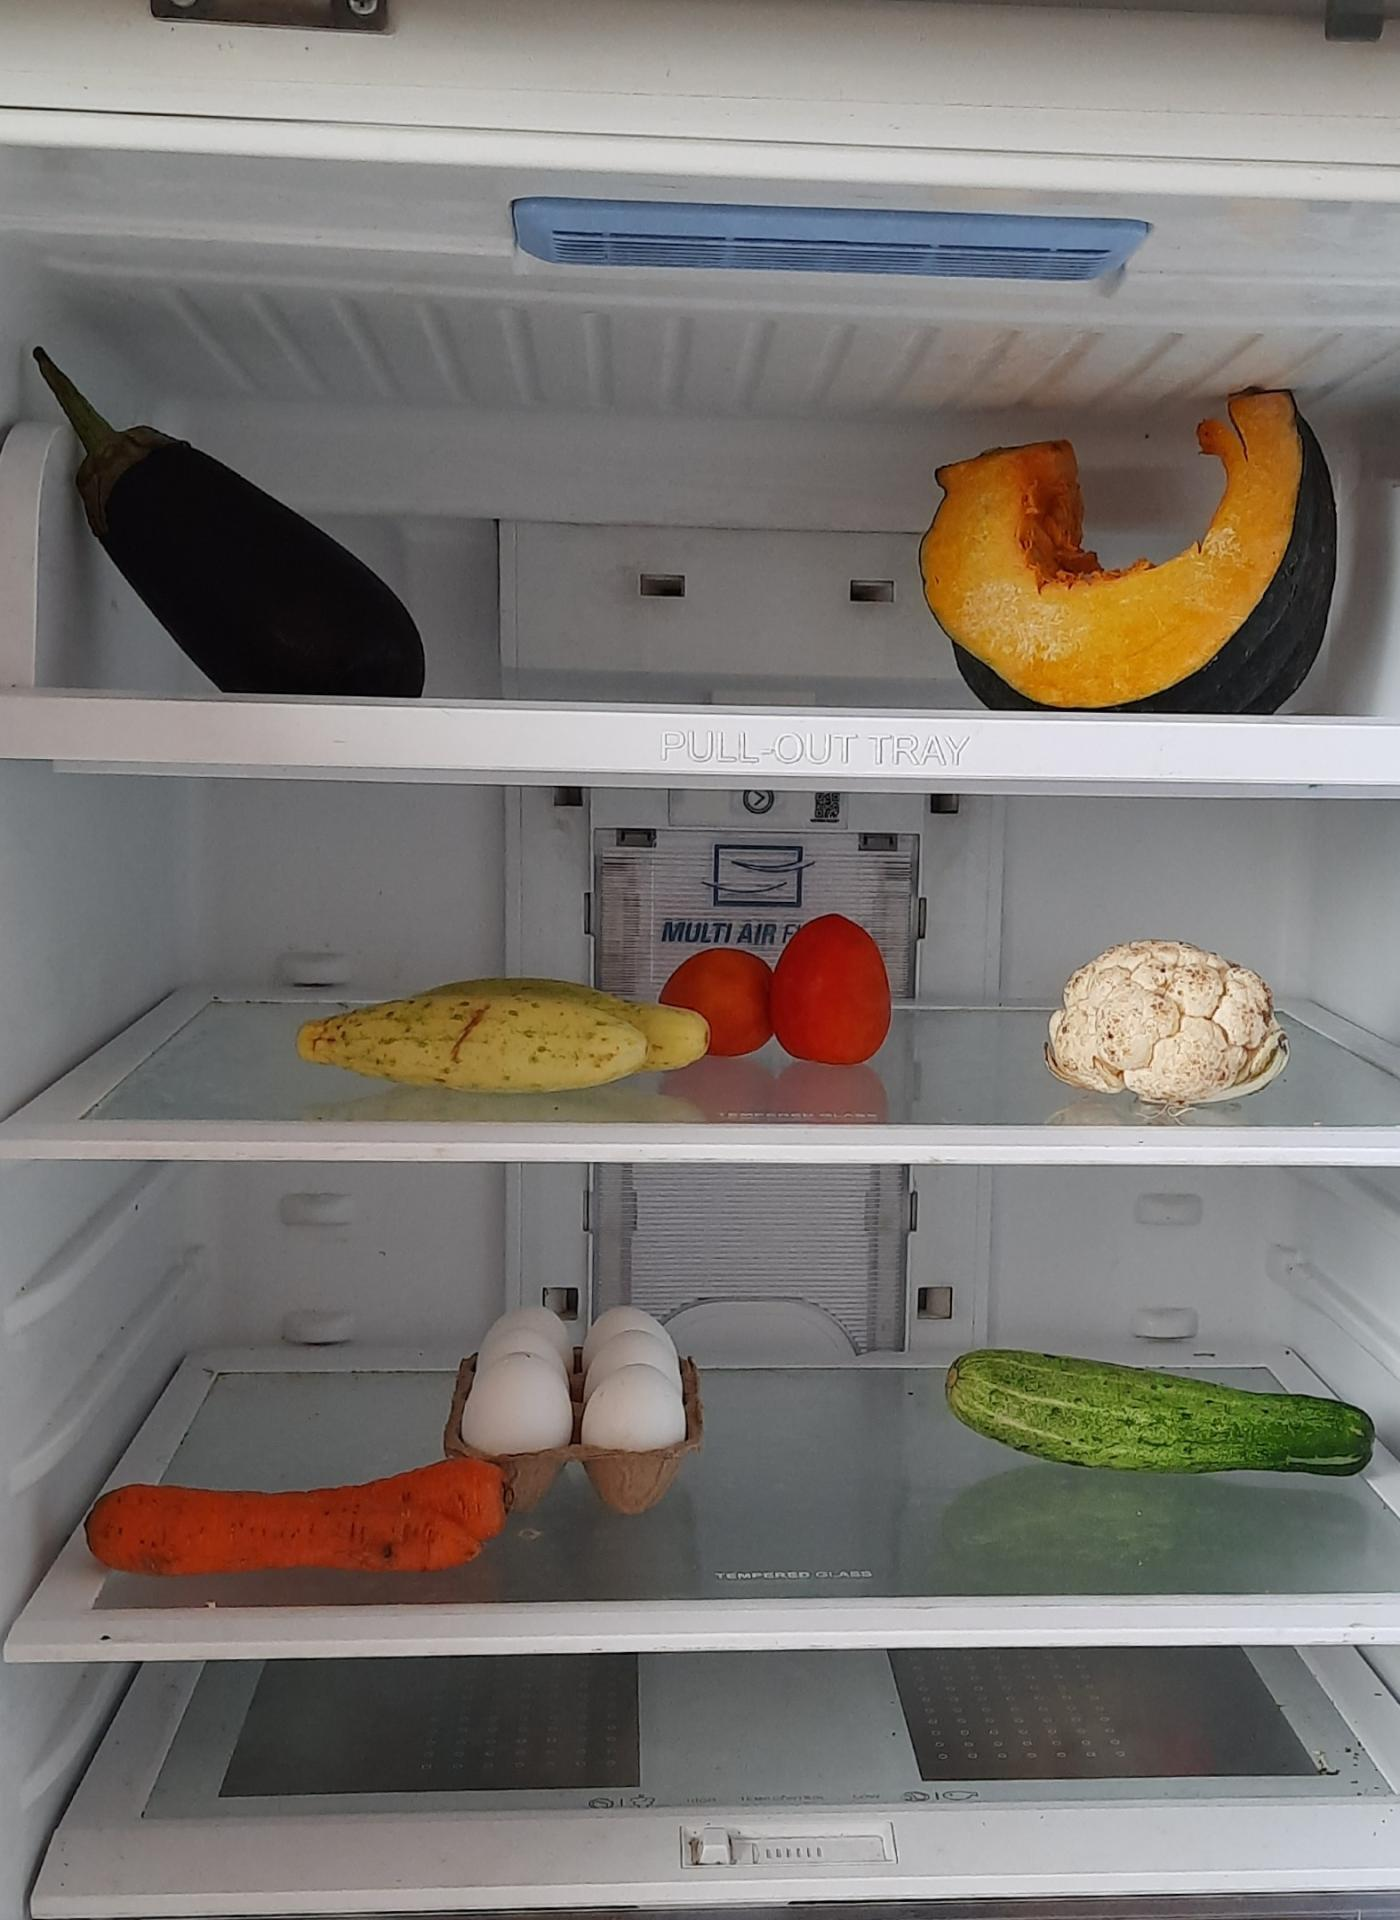brinjal: (33, 349, 441, 699)
carrots: (85, 1450, 522, 1567)
cauliflower: (1039, 938, 1294, 1109)
cucumber: (294, 957, 702, 1111), (942, 1343, 1378, 1482)
egg: (449, 1286, 702, 1479)
pumpkin: (918, 382, 1345, 711)
tomato: (672, 915, 887, 1064)
